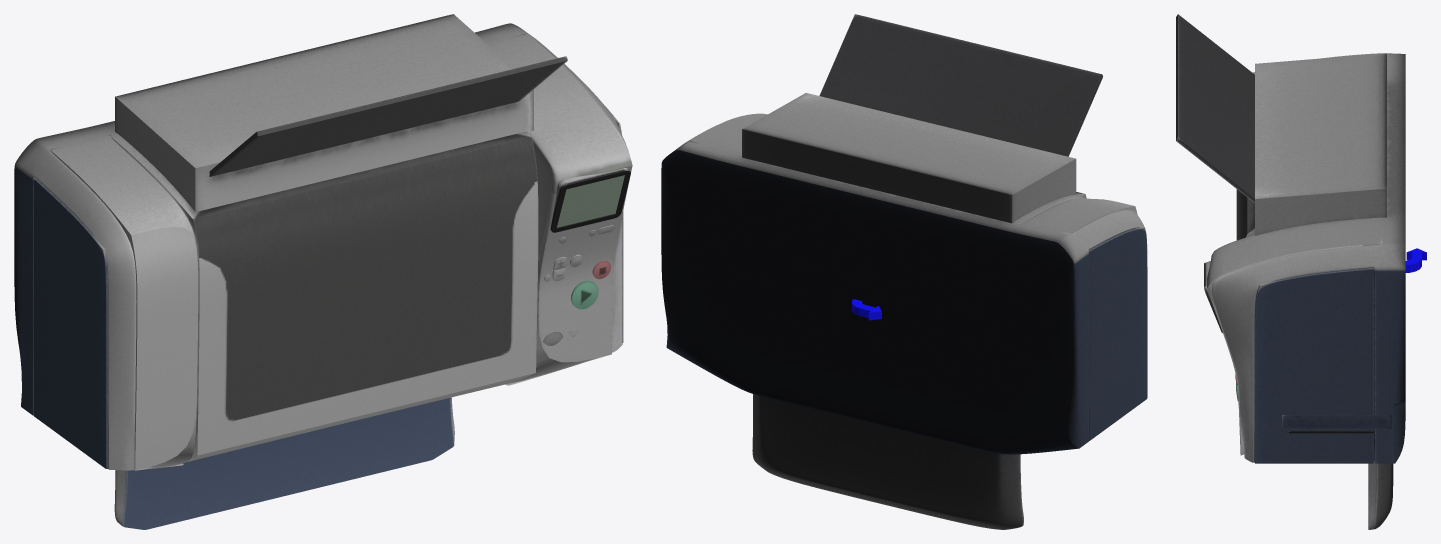
Rendered from printer.gltf.
The picture shows the model from 3 angles, left to right: view 1: azimuth 30°, elevation 25°; view 2: azimuth 150°, elevation 25°; view 3: azimuth 270°, elevation 25°; orthographic projection. The views are drawn at different scales.
Visible parts, largest first — view 1: 10107_Computer Printer_v3_L3; view 2: 10107_Computer Printer_v3_L3; view 3: 10107_Computer Printer_v3_L3, Cube.
Part boxes in pixels (box(x1,y1,x2,y2)): 10107_Computer Printer_v3_L3: box(14, 14, 632, 529); 10107_Computer Printer_v3_L3: box(661, 14, 1147, 529); 10107_Computer Printer_v3_L3: box(1176, 14, 1405, 529); Cube: box(1405, 248, 1426, 272).
Bounding box in the file's own units: 41.96 × 37.53 × 21.47.
2 materials, 1 textured.
